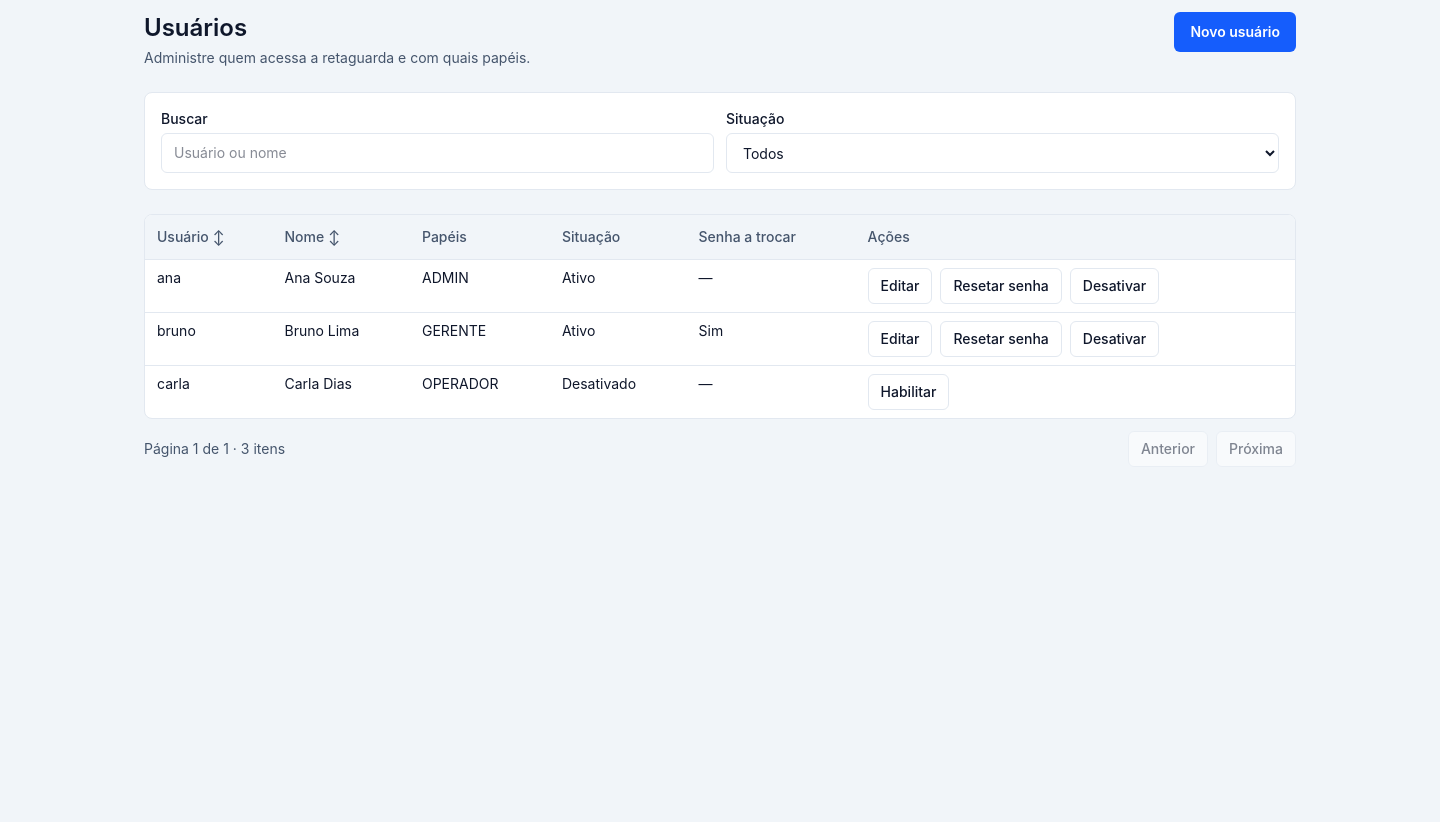
Scenario: UsersPage — desativar e habilitar › desativa e habilita pelo servidor, com aviso de sucesso
The image size is (1440, 822).
expect the cell "ana" is shown: met, box 145,260 -> 272,312
Click the button with aria-label "Desativar ana".
click(1114, 286)  # box 1070,268 -> 1159,304
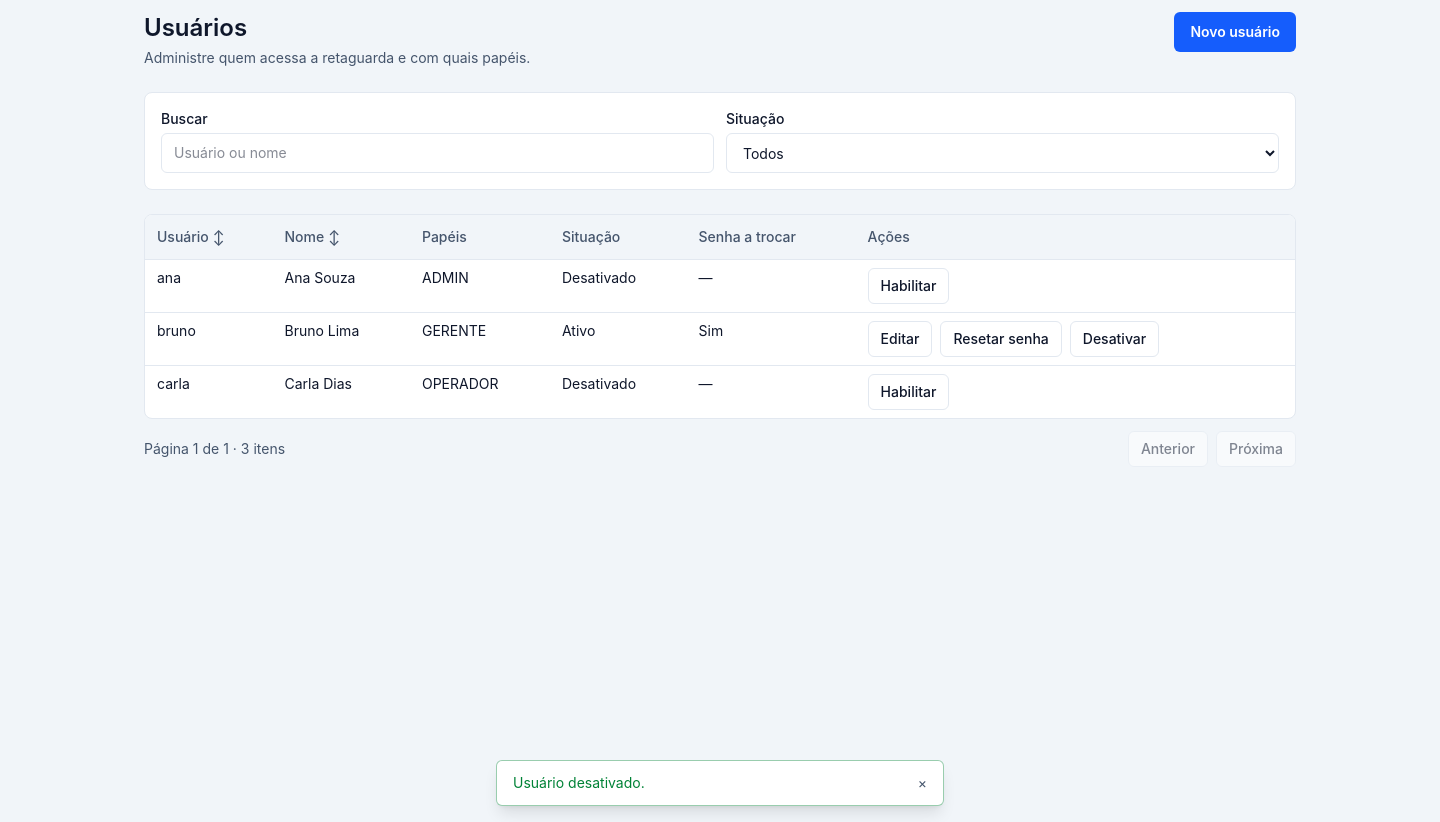
expect the text "Usuário desativado." is shown: met, box 513,774 -> 645,791
expect the cell "Desativado" in the row of "Ana Souza" is shown: met, box 550,260 -> 687,312
Click the button with aria-label "Habilitar ana".
click(908, 286)  # box 868,268 -> 949,304
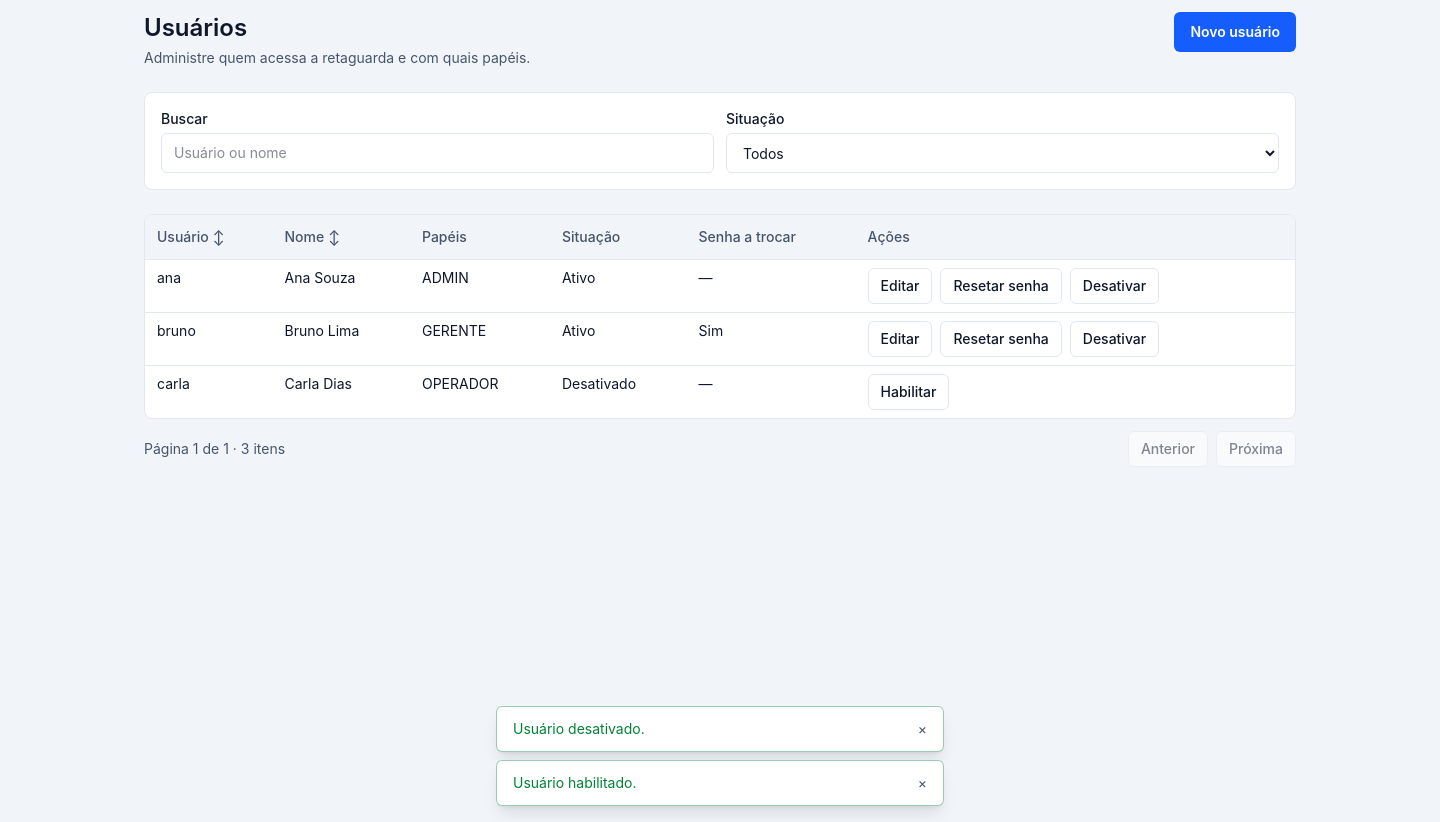
expect the text "Usuário habilitado." is shown: met, box 513,774 -> 636,791
